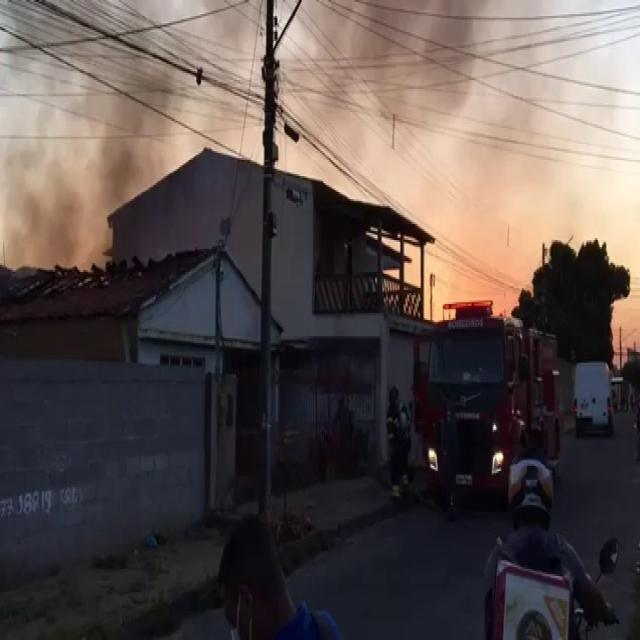Smoke: (2, 37, 170, 258), (359, 3, 478, 148)
